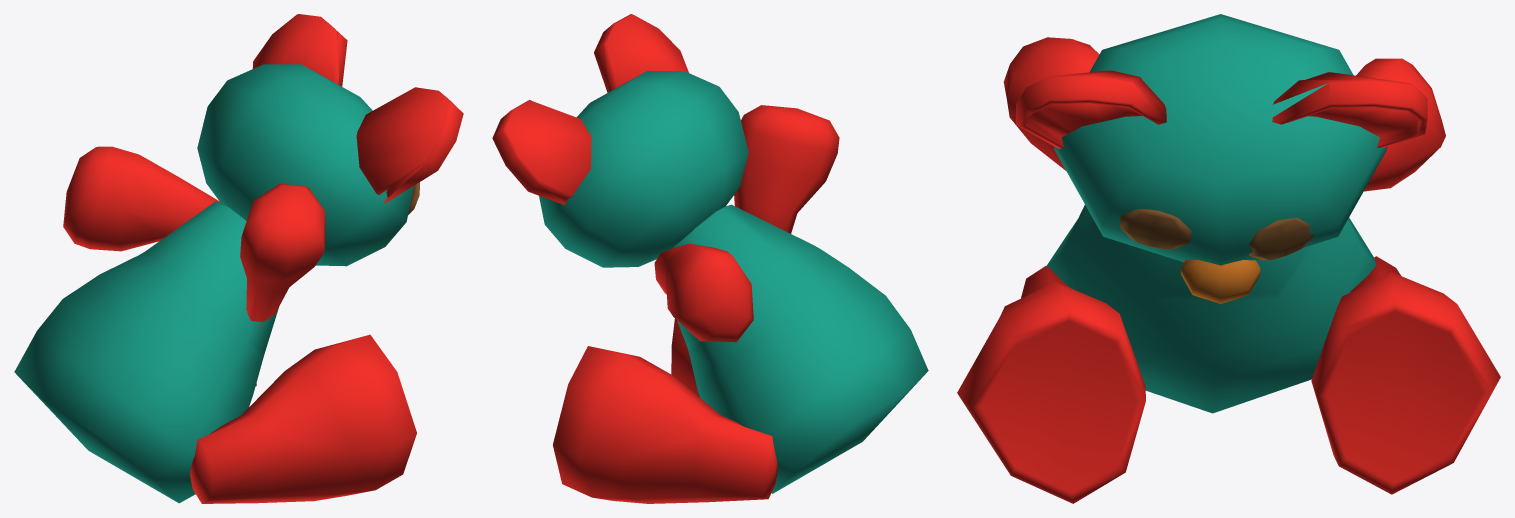
File: SM_Bear.fbx
3 views of the same model, side by side, from view 1: azimuth 30°, elevation 25°; view 2: azimuth 150°, elevation 25°; view 3: azimuth 270°, elevation 25° (orthographic). The views are drawn at different scales.
Parts seen in each view (by area): view 1: SM_Bear; view 2: SM_Bear; view 3: SM_Bear.
Boxes of the visible parts, left/top/right/bottom form: SM_Bear: left=14, top=14, right=463, bottom=503; SM_Bear: left=492, top=14, right=928, bottom=503; SM_Bear: left=957, top=14, right=1500, bottom=503.
Size of the model in its own units: 25.44 by 26.27 by 25.56.
Materials: 1 (1 with a texture image).
